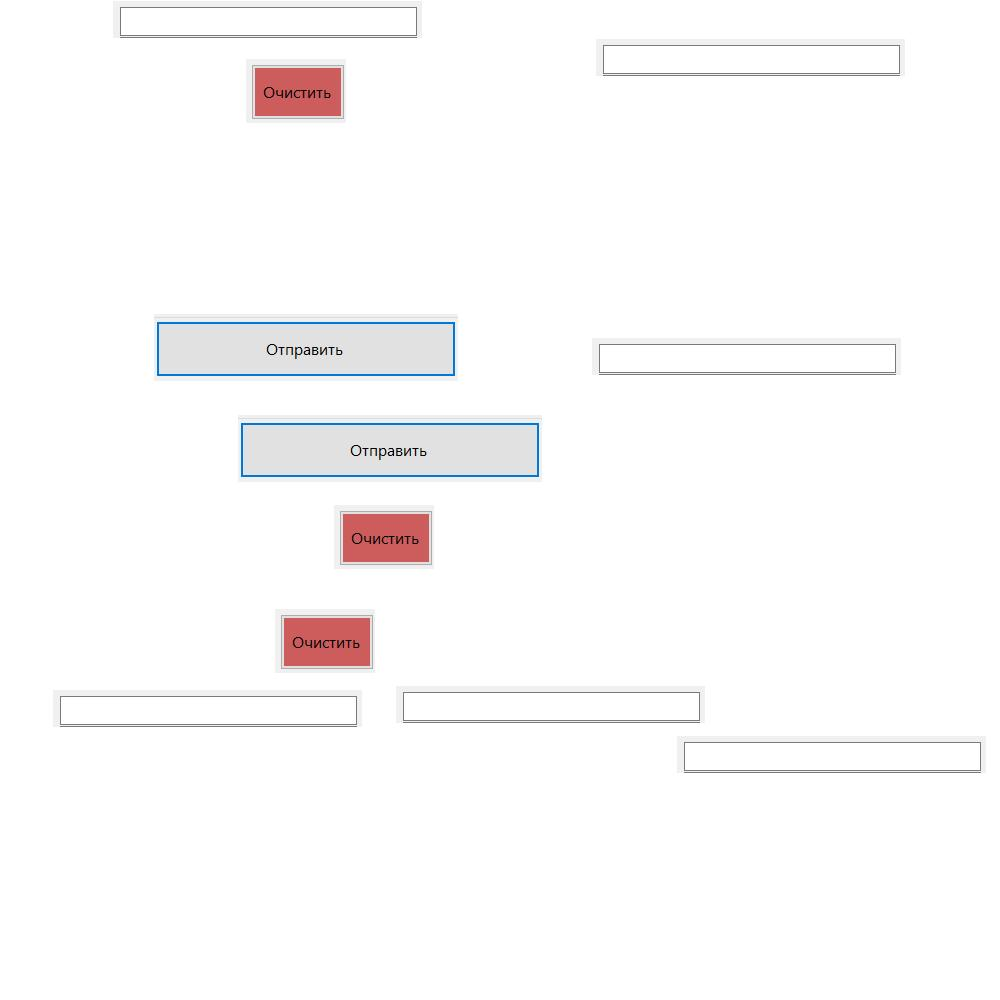Button: (154, 314, 458, 381), (238, 415, 542, 482), (275, 609, 375, 673), (334, 505, 434, 569), (246, 59, 346, 123)
EditText-: (396, 686, 705, 723), (113, 1, 422, 38), (53, 690, 362, 727), (592, 338, 901, 375), (677, 736, 986, 773), (596, 39, 905, 76)
